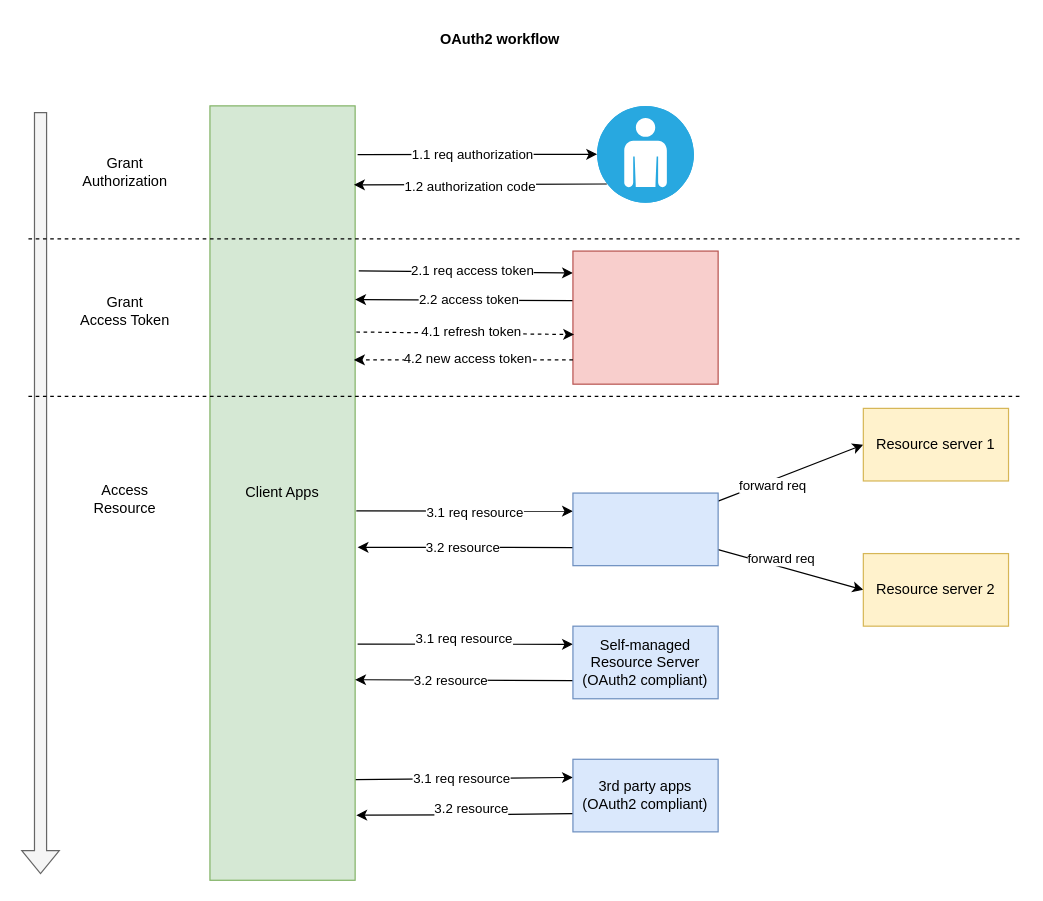
The diagram is 1043 pixels wide and 901 high, and some of its shapes have lost their labels. Here are the shapes that lost their labels. From the top down, the centre of each, then its label:
At pixel 645 154: "UID".
At pixel 645 317: "SSO server".
At pixel 645 529: "API Gateway (Oauth2 compliant)".
